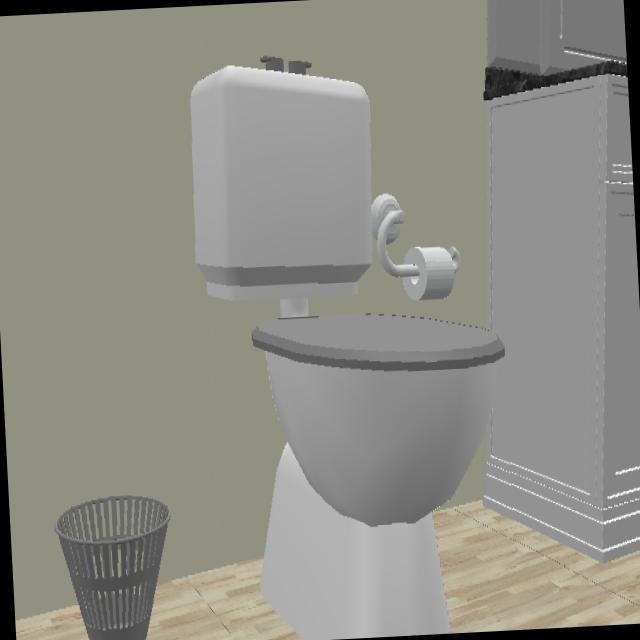cabinet: (483, 76, 640, 565)
toilet: (191, 66, 505, 640)
